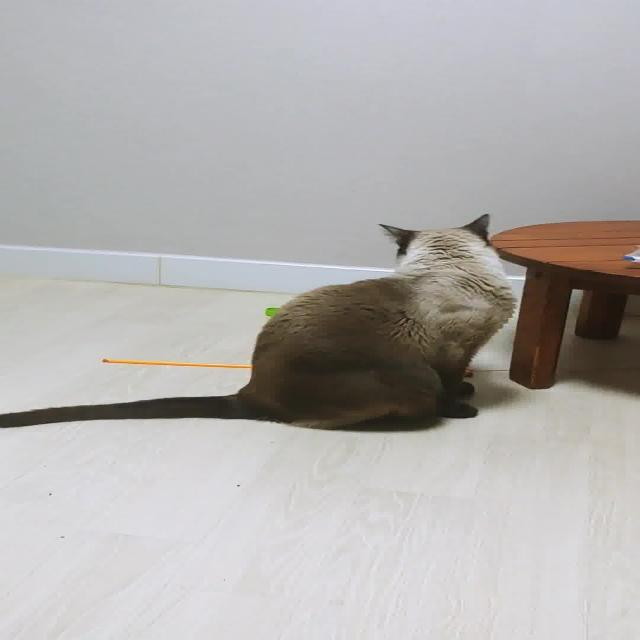cat: (0, 205, 534, 439)
